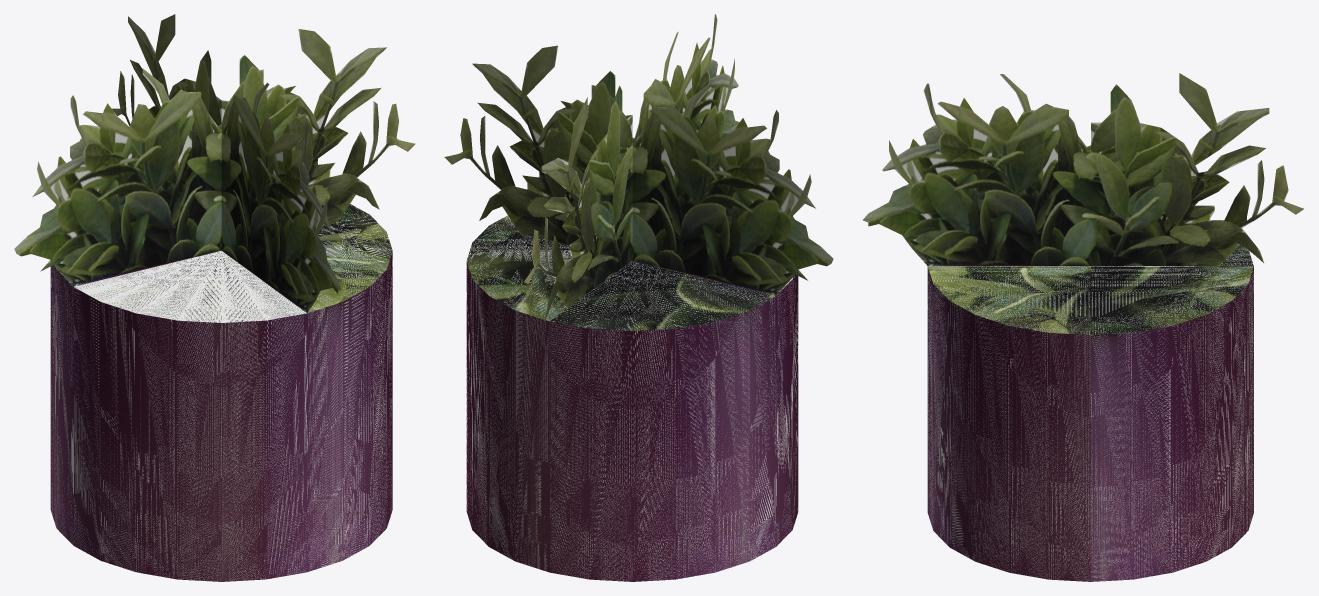
The model's file is flower_in_pot2.dae.
3 renders of one model, left to right at view 1: azimuth 30°, elevation 25°; view 2: azimuth 150°, elevation 25°; view 3: azimuth 270°, elevation 25°, orthographic. The views are drawn at different scales.
Parts seen in each view (by area): view 1: SketchUp (×3); view 2: SketchUp (×3); view 3: SketchUp (×3).
Boxes of the visible parts, box(x1,y1,x2,y2) form: SketchUp (×3): box(14, 14, 415, 581); SketchUp (×3): box(444, 14, 833, 581); SketchUp (×3): box(863, 73, 1303, 581).
Bounding box in the file's own units: 0.2029 × 0.2029 × 0.2231.
5 materials, 3 textured.
